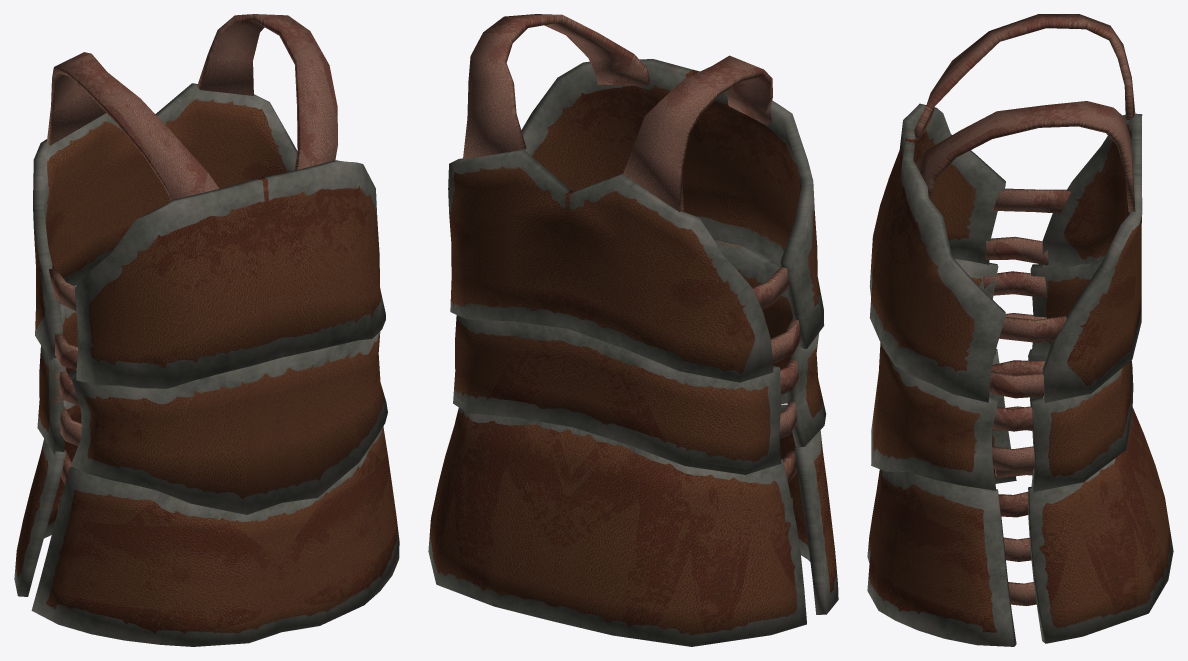
Rendered from leather_armor.glb.
3 renders of one model, left to right at view 1: azimuth 30°, elevation 25°; view 2: azimuth 150°, elevation 25°; view 3: azimuth 270°, elevation 25°, orthographic. The views are drawn at different scales.
Parts seen in each view (by area): view 1: leather_armor.001; view 2: leather_armor.001; view 3: leather_armor.001.
Part boxes in pixels (box(x1,y1,x2,y2)): leather_armor.001: box(14, 14, 399, 646); leather_armor.001: box(428, 14, 838, 646); leather_armor.001: box(867, 14, 1173, 646).
Size of the model in its own units: 0.3004 by 0.4182 by 0.2263.
Materials: 1 (1 with a texture image).
